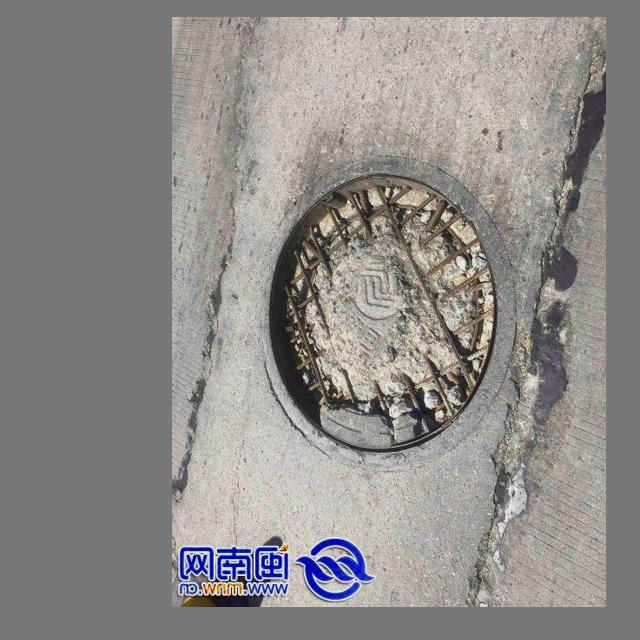broke: (247, 159, 531, 463)
